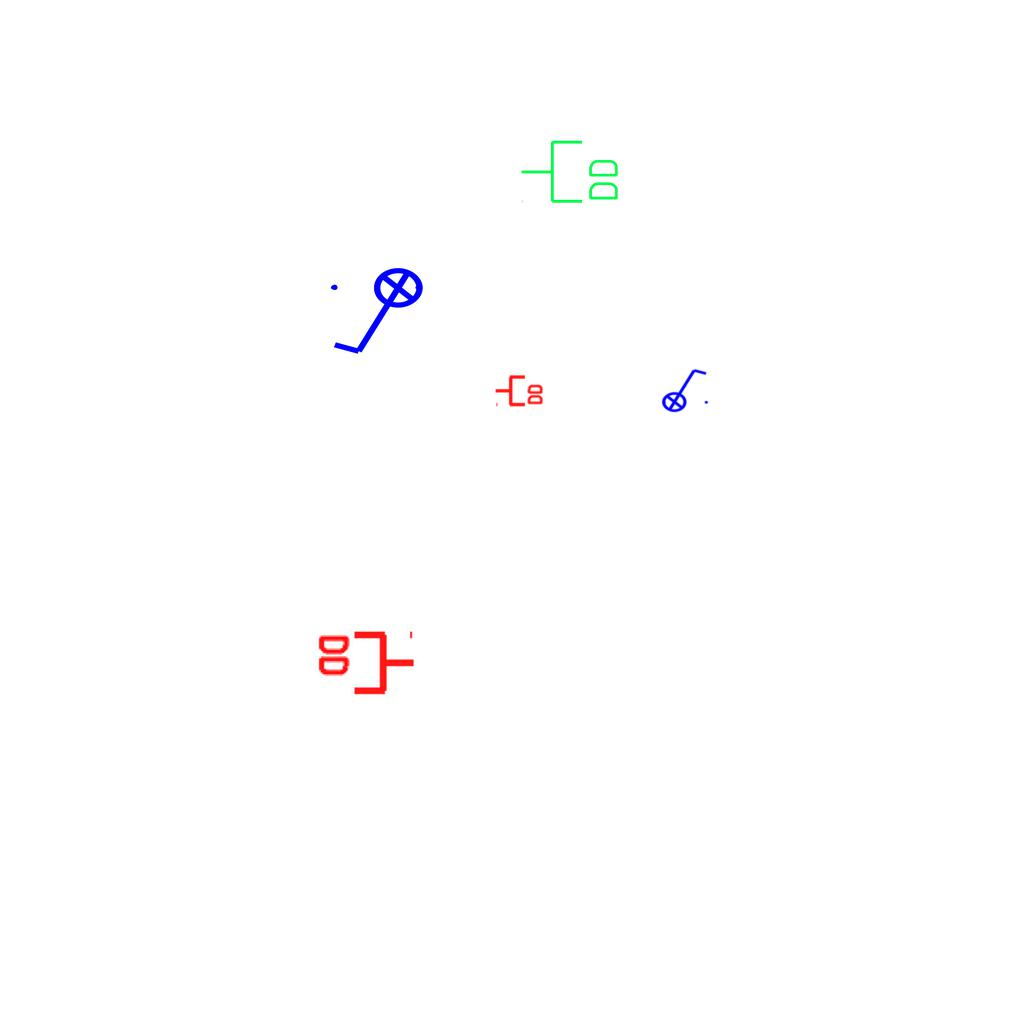Ausschalter_beleuchtet: (325, 266, 437, 362), (655, 365, 711, 413)
Datenanschluss_zweifach: (314, 630, 417, 699), (519, 138, 622, 207), (494, 373, 545, 407)
